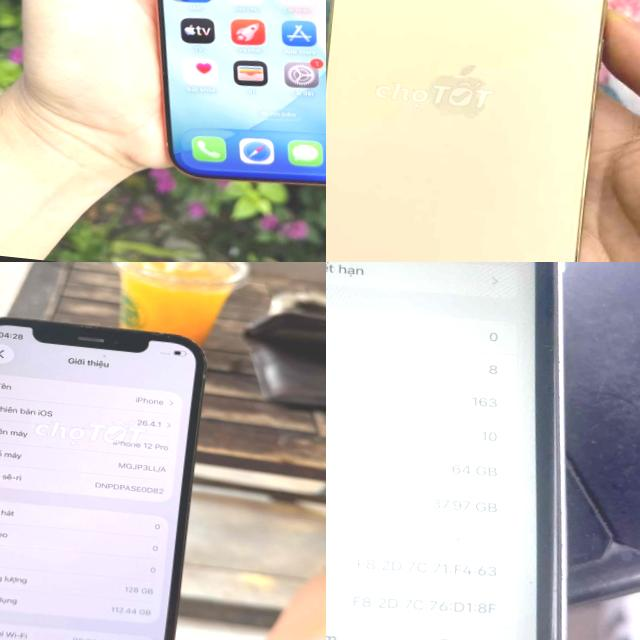gen_12_13: (326, 0, 634, 262), (0, 306, 213, 640)
gen_17: (95, 0, 326, 213)
gen_x_xs: (326, 262, 640, 640)
